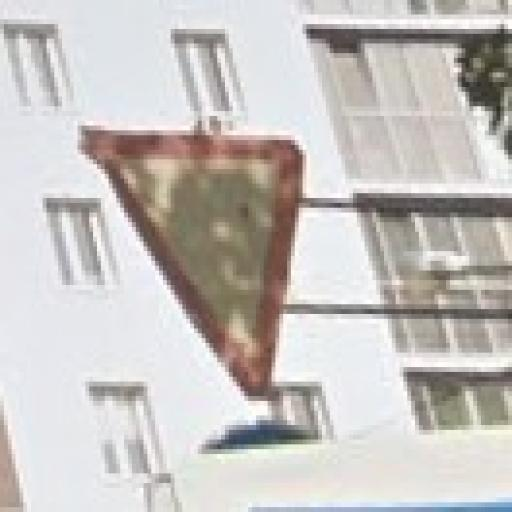traffic_sign: (79, 122, 304, 397)
